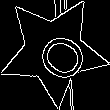O_NW: (21, 19, 86, 83)
